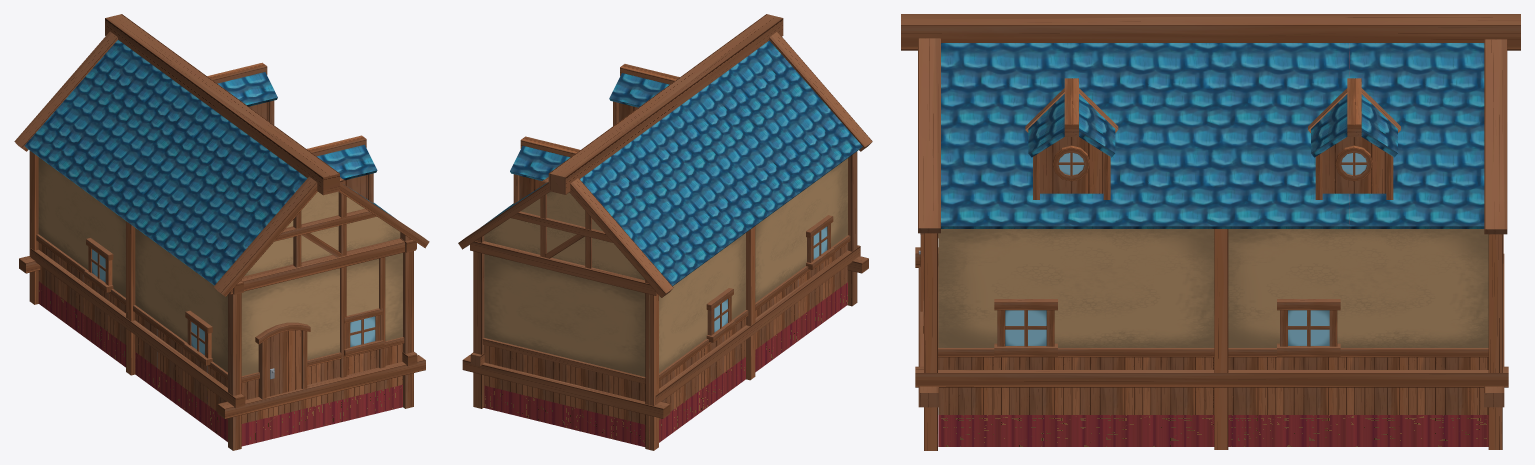
File: house_town_blue_2.glb
3 views of the same model, side by side, from view 1: azimuth 30°, elevation 25°; view 2: azimuth 150°, elevation 25°; view 3: azimuth 270°, elevation 25° (orthographic). The views are drawn at different scales.
Visible parts, largest first — view 1: house_town_blue_2; view 2: house_town_blue_2; view 3: house_town_blue_2.
Part boxes in pixels (x1,y1,x2,y2): house_town_blue_2: (14, 14, 429, 450); house_town_blue_2: (458, 14, 872, 450); house_town_blue_2: (901, 14, 1520, 450).
Bounding box in the file's own units: 9.67 × 11.5 × 17.54.
1 material, 1 textured.
